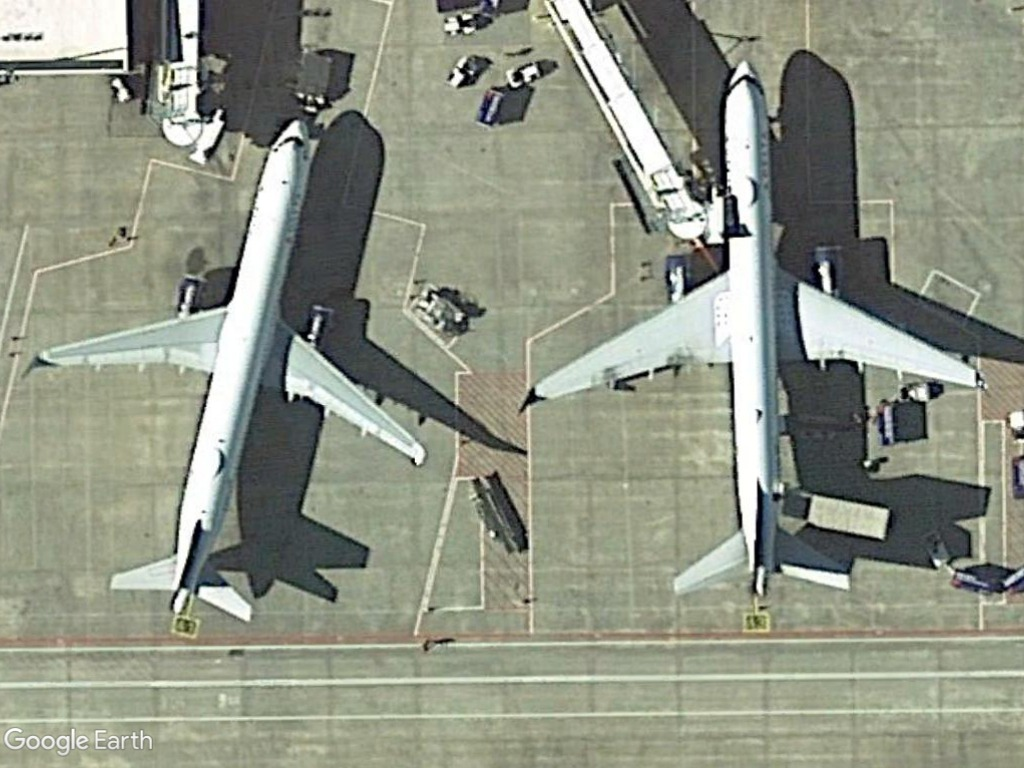airliner: (506, 52, 980, 603), (27, 106, 428, 631)
